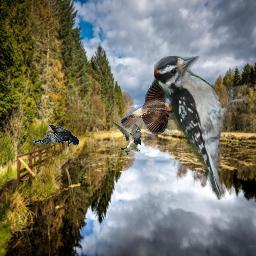Crow: (31, 124, 79, 147)
Swallow: (120, 78, 183, 135), (109, 121, 141, 155)
Woodpecker: (154, 56, 246, 200)
